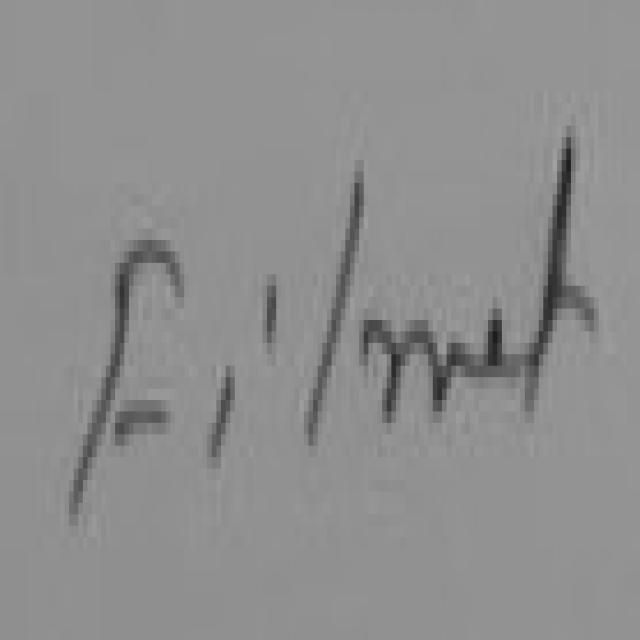F: (69, 240, 184, 526)
e: (488, 309, 520, 382)
f: (212, 377, 235, 457), (267, 286, 277, 337)
l: (308, 171, 364, 440)
m: (364, 320, 485, 417)
t: (529, 137, 599, 406)
